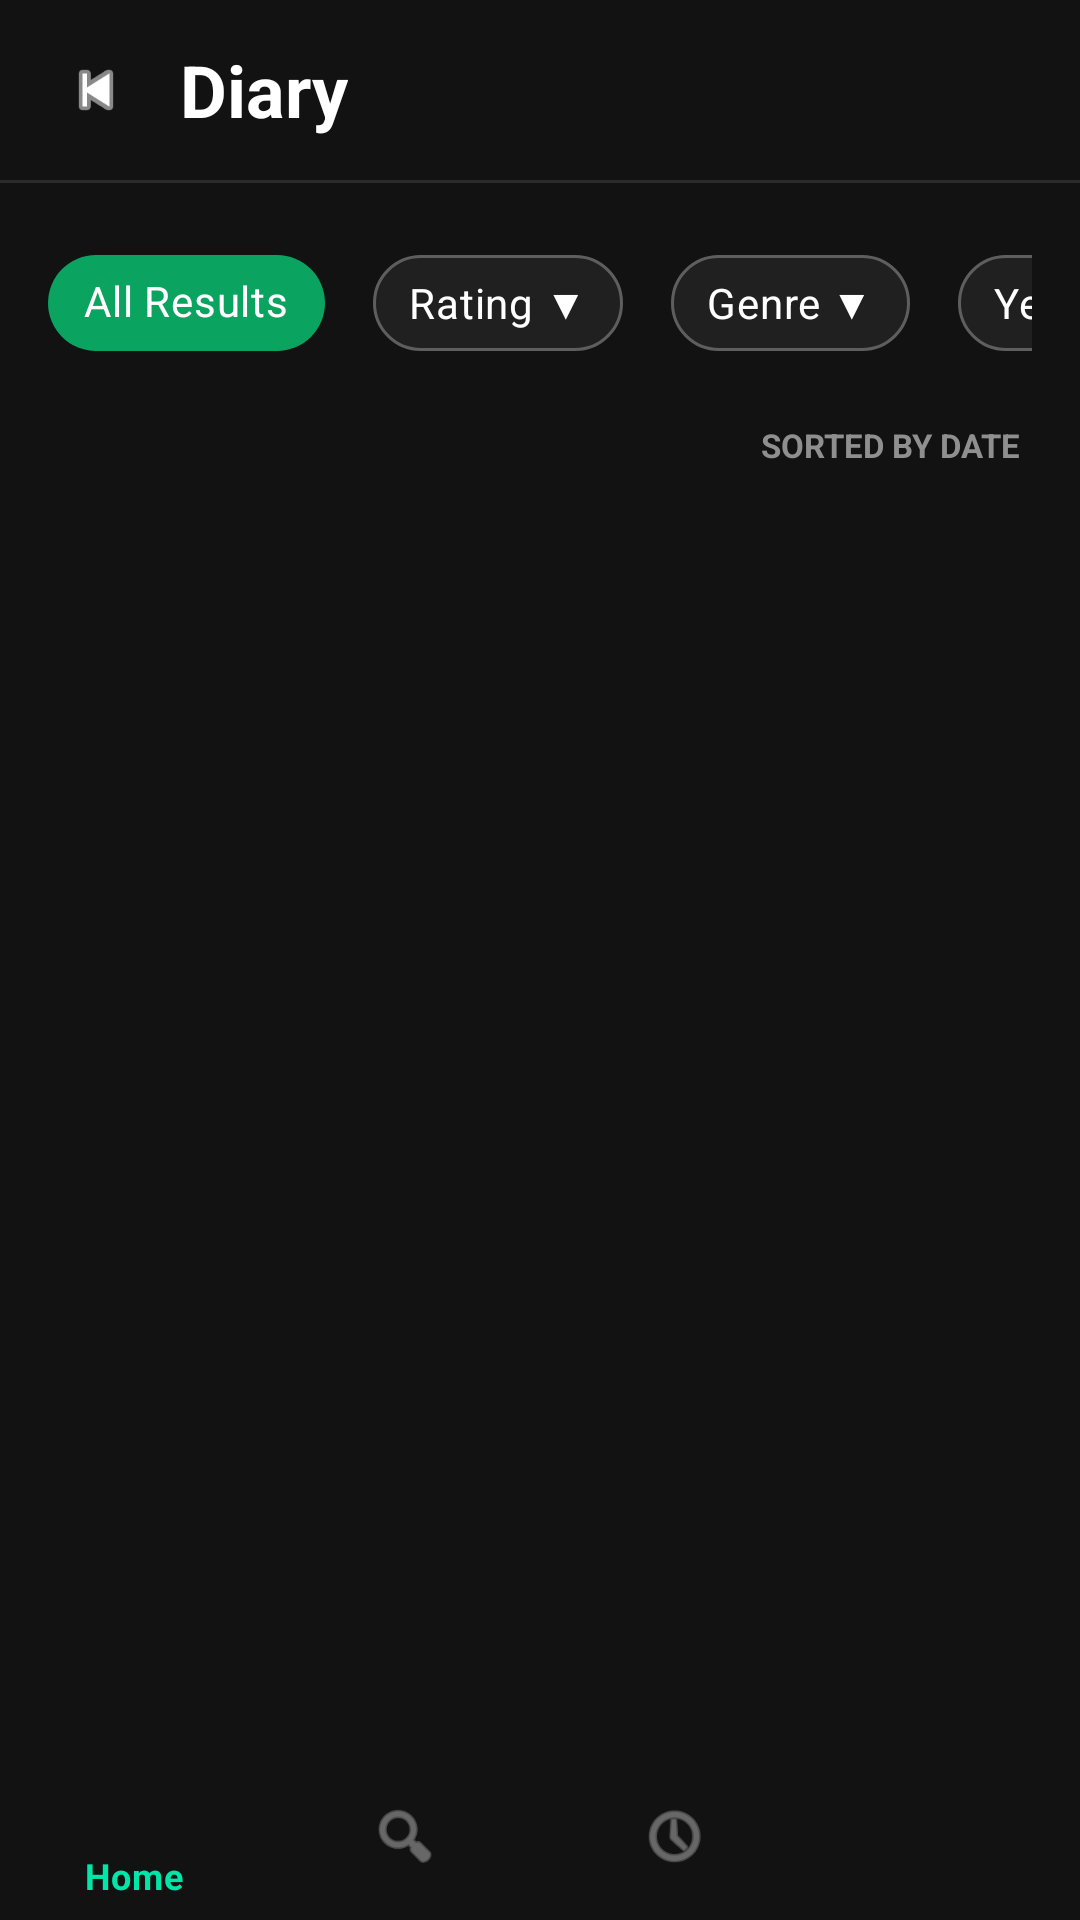

Point at icon controls on the screen. Image size 1080×1920, points as (x,y).
Back: (96,90)
